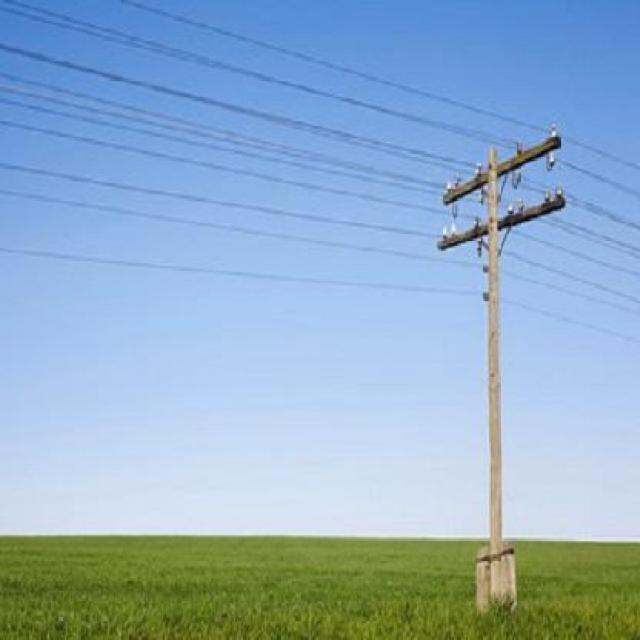pole: (432, 129, 574, 600)
